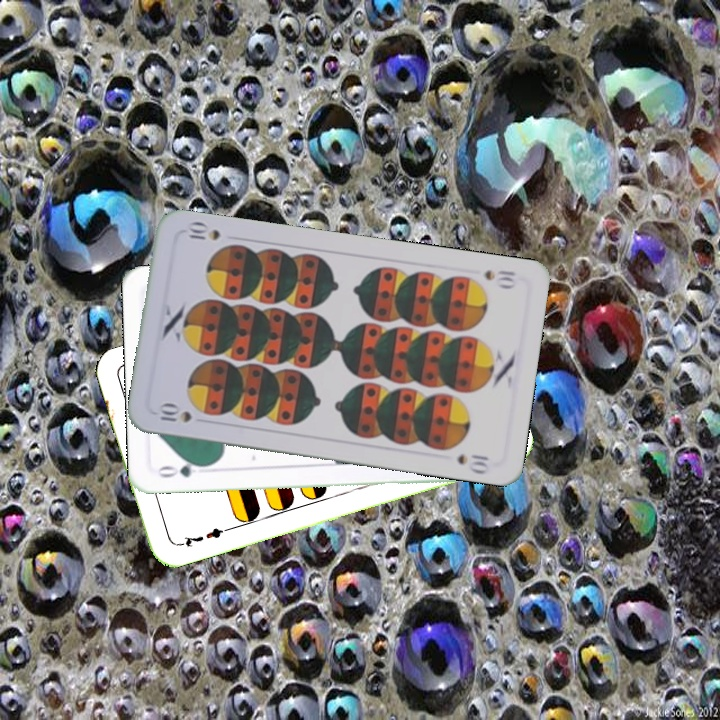E7: (173, 524, 231, 550)
GO: (153, 457, 212, 480)
S10: (480, 265, 519, 291), (156, 401, 195, 426)
